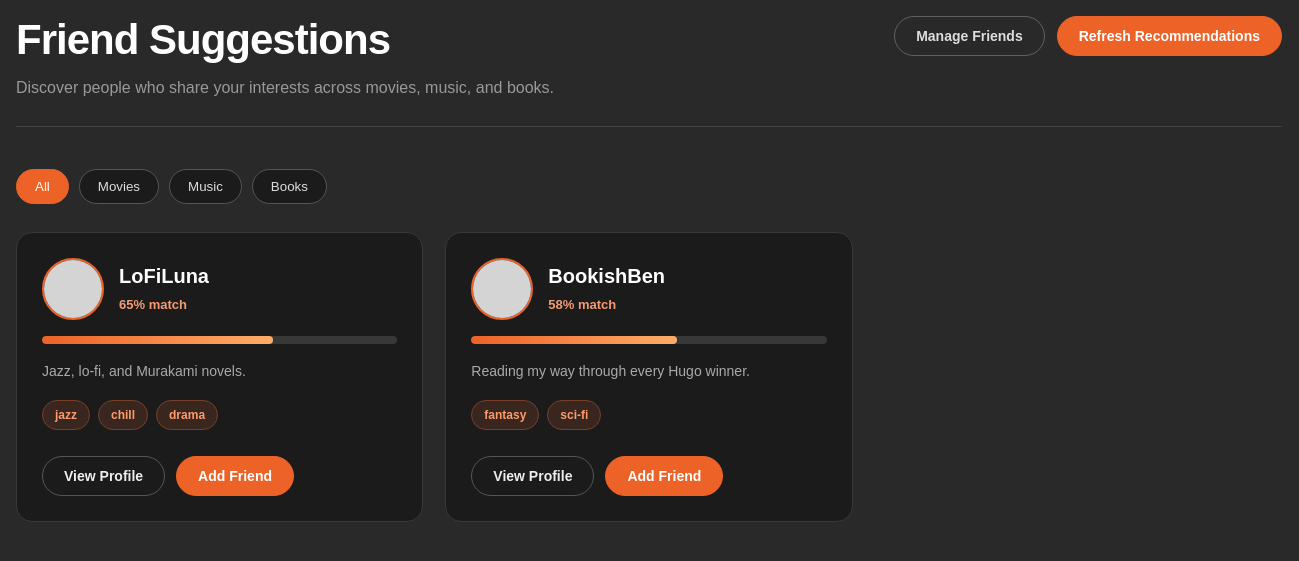
Scenario: FriendSuggestionsPage › refresh control confirms recommendations were refreshed
Click the button "Refresh Recommendations" at (1169, 36), box [1057,16,1282,56]
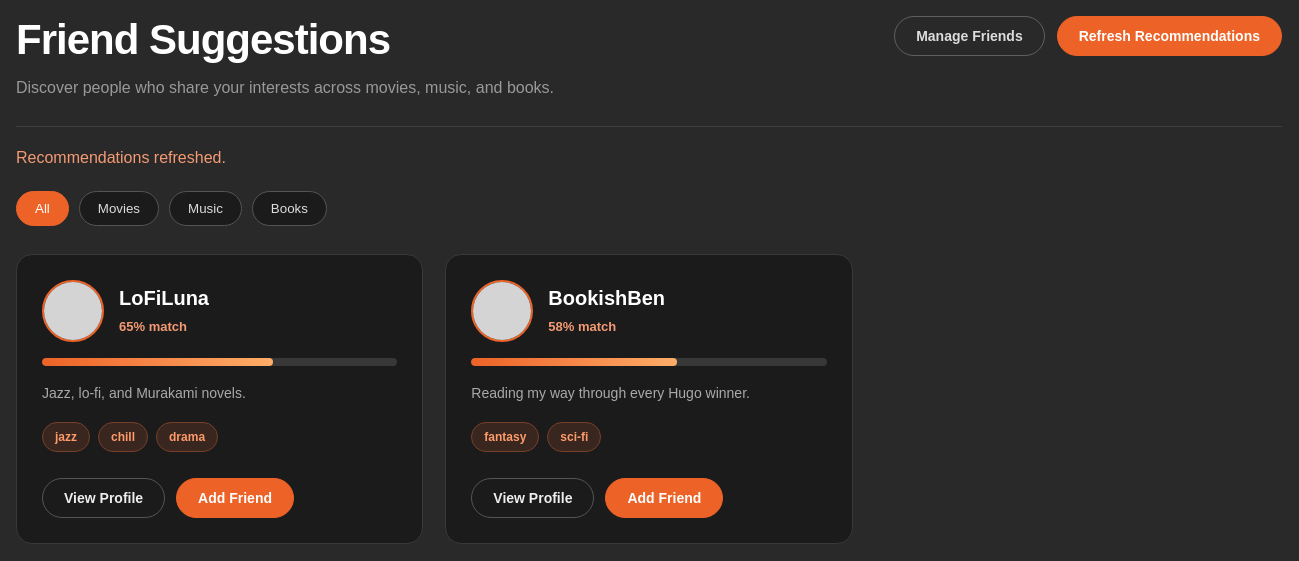
Result: the message reads "Recommendations refreshed." at [16,149,226,166]
